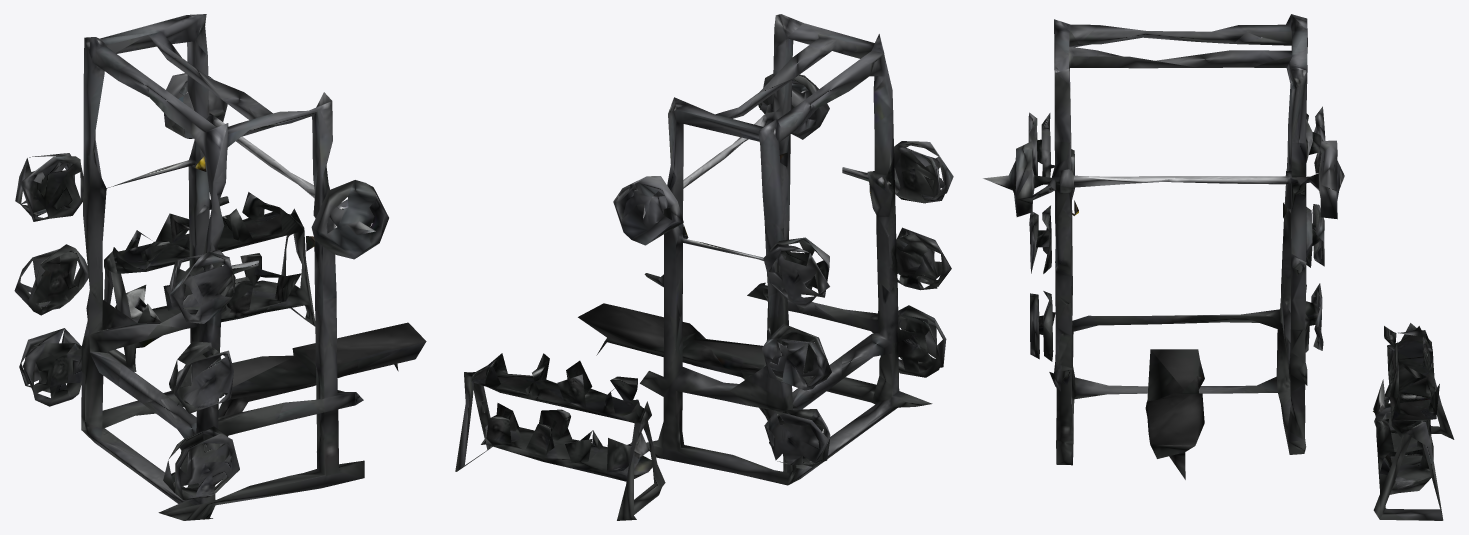
Rendered from innen_kraft.glb.
3 views of the same model, side by side, from view 1: azimuth 30°, elevation 25°; view 2: azimuth 150°, elevation 25°; view 3: azimuth 270°, elevation 25° (orthographic). The views are drawn at different scales.
Visible parts, largest first — view 1: tripo_node_bad69501-2faa-4abc-80b9-a302bd54d1dd; view 2: tripo_node_bad69501-2faa-4abc-80b9-a302bd54d1dd; view 3: tripo_node_bad69501-2faa-4abc-80b9-a302bd54d1dd.
Part boxes in pixels (bbox=[...]): tripo_node_bad69501-2faa-4abc-80b9-a302bd54d1dd: bbox=[14, 14, 426, 520]; tripo_node_bad69501-2faa-4abc-80b9-a302bd54d1dd: bbox=[455, 14, 953, 520]; tripo_node_bad69501-2faa-4abc-80b9-a302bd54d1dd: bbox=[983, 14, 1454, 520].
Size of the model in its own units: 0.7947 by 0.8998 by 0.9879.
1 material, 1 textured.
